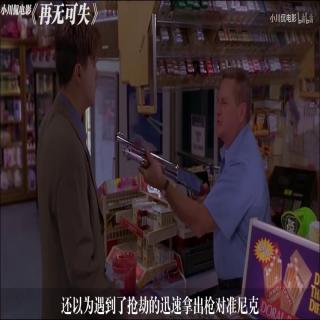gun: (111, 121, 218, 230)
